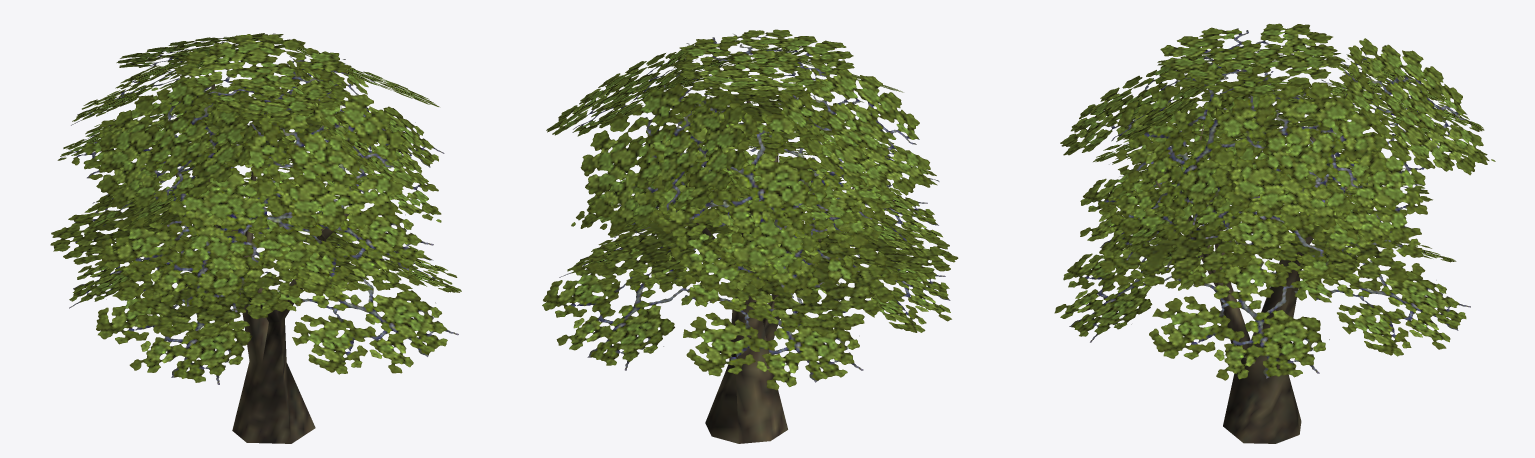
Rendered from Bigtree01.FBX.
The picture shows the model from 3 angles, left to right: view 1: azimuth 30°, elevation 25°; view 2: azimuth 150°, elevation 25°; view 3: azimuth 270°, elevation 25°; orthographic projection.
Parts seen in each view (by area): view 1: Object001; view 2: Object001; view 3: Object001.
Part boxes in pixels (x1,y1,x2,y2): Object001: [50, 33, 461, 443]; Object001: [542, 29, 958, 443]; Object001: [1054, 23, 1495, 443].
Size of the model in its own units: 9.77 by 8.98 by 10.32.
